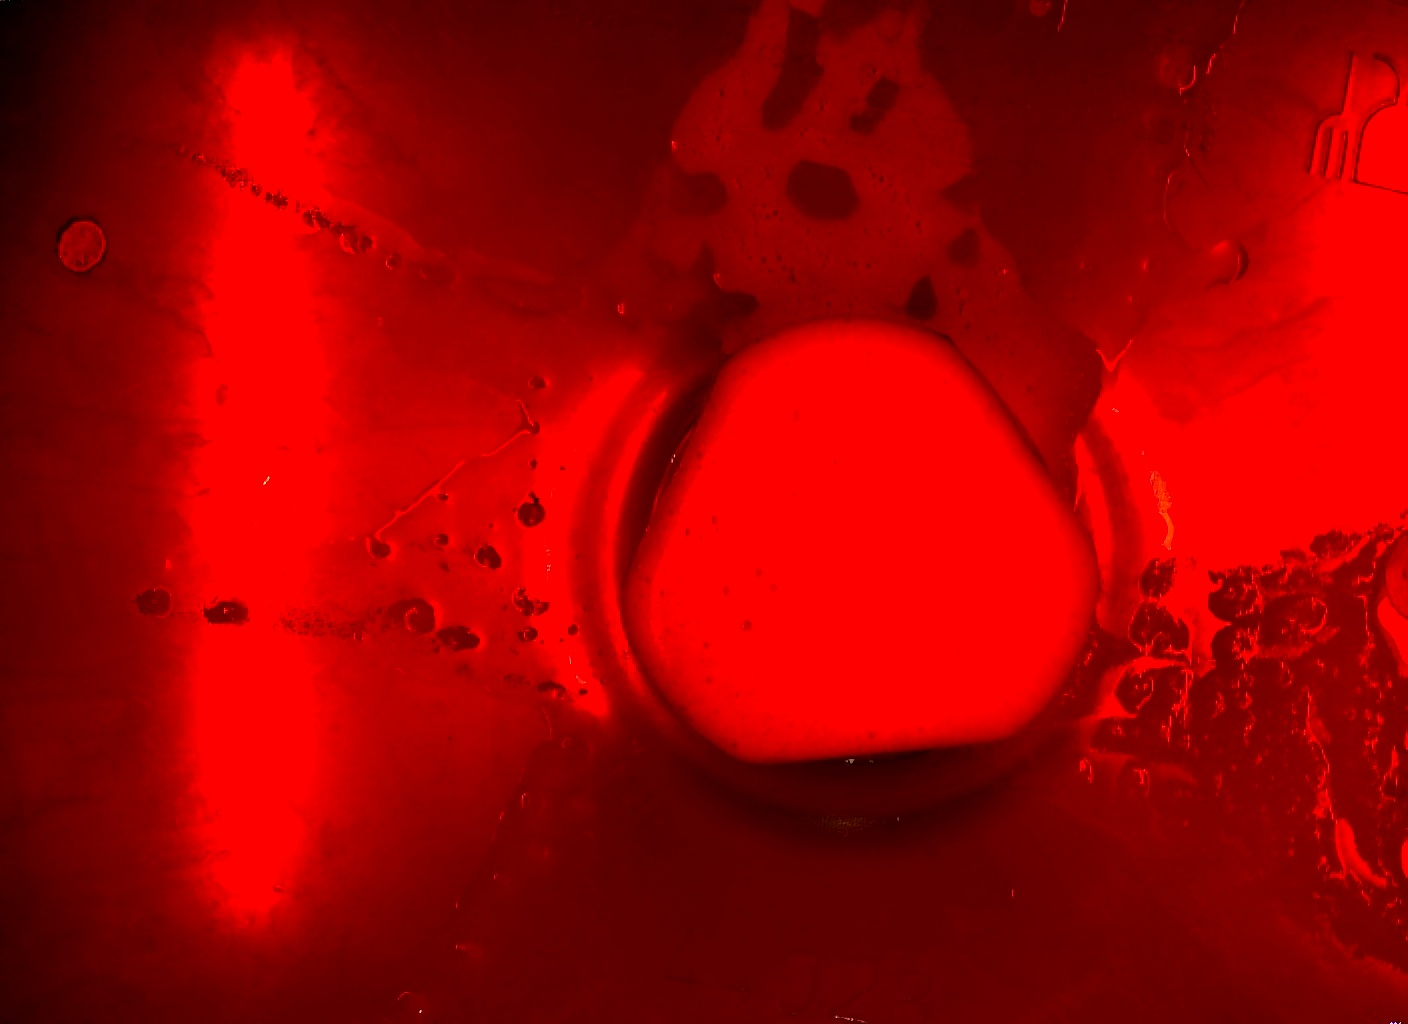pena: (668, 19, 965, 323)
shapka: (632, 321, 1099, 797)
